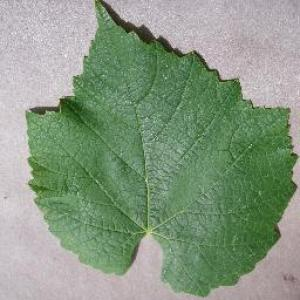Folha: (24, 0, 298, 298)
